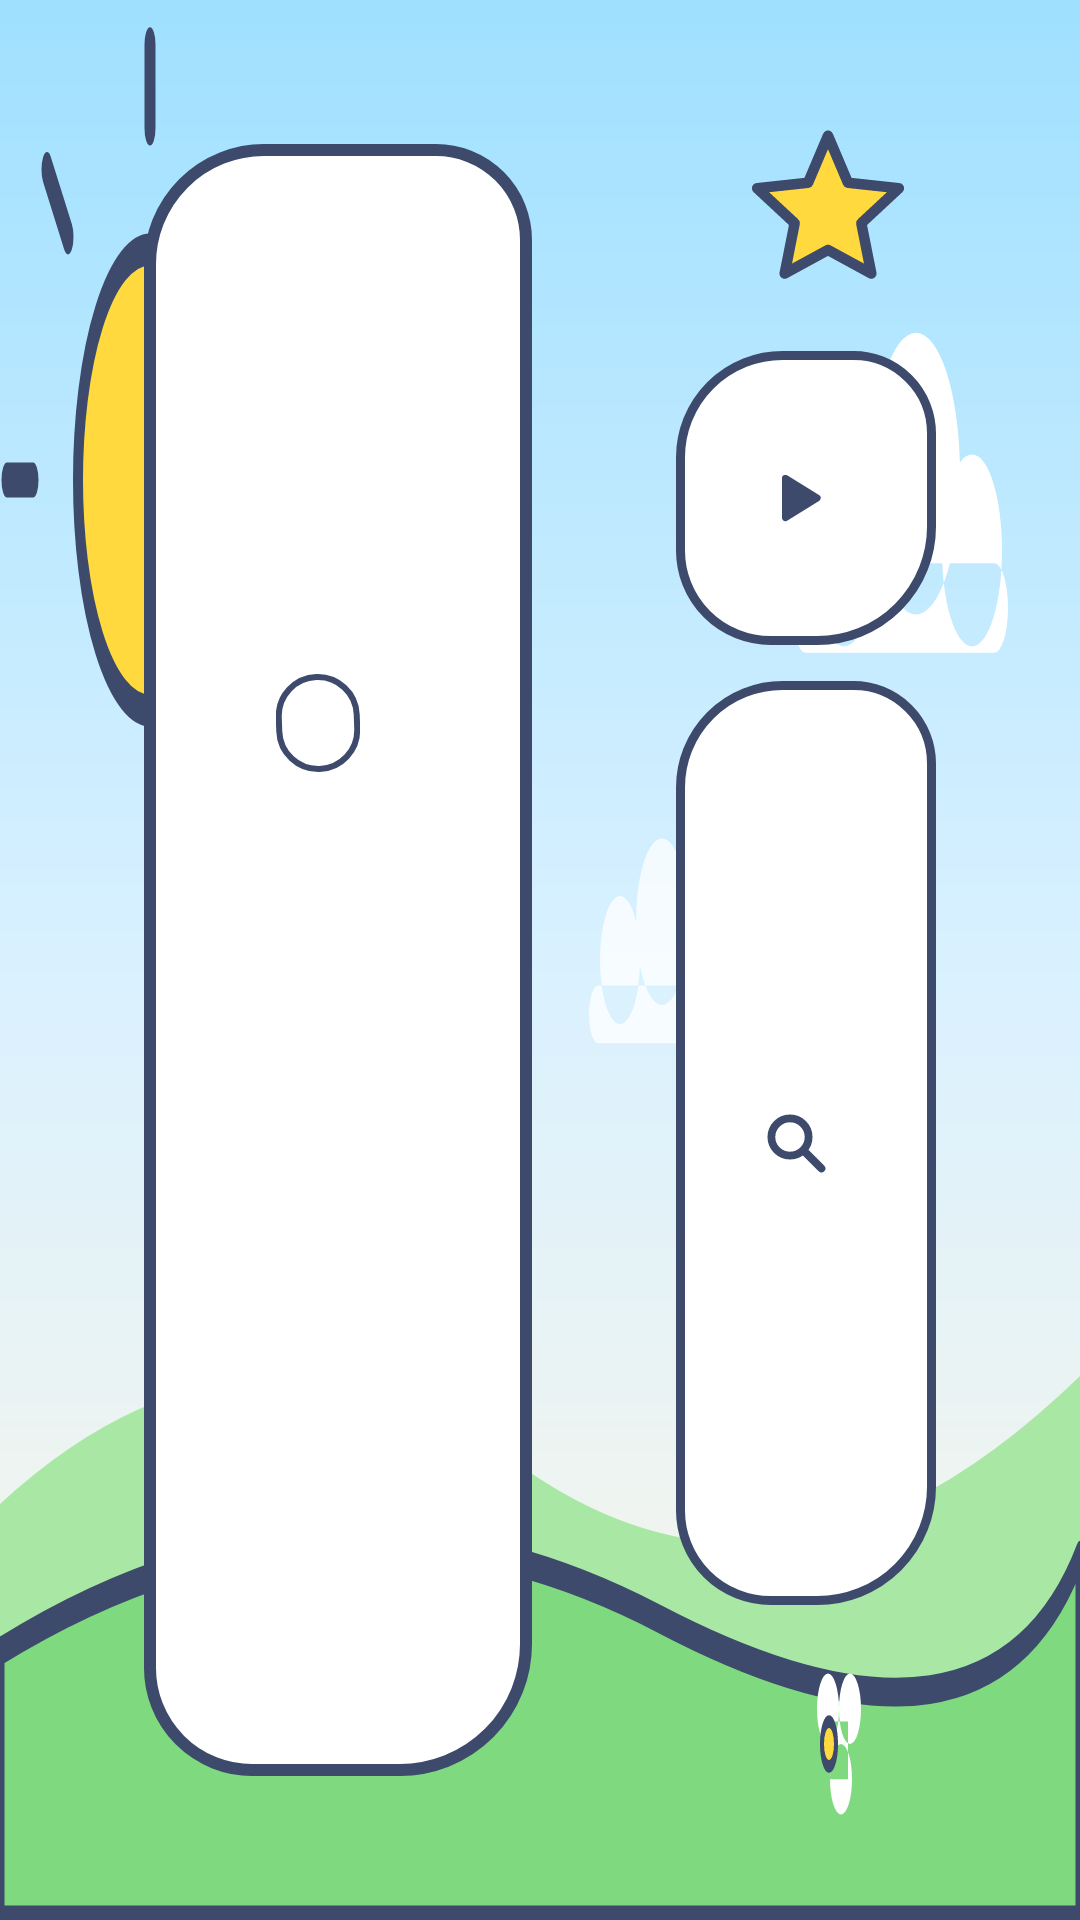

Screen size 1080w x 1920h. Icon name, then its box in pixels as (x1, y1, x2, y2):
deco star: (752, 130, 904, 279)
